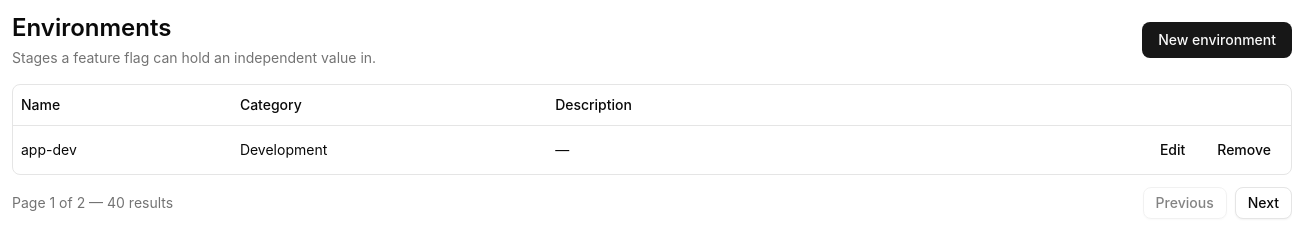
Scenario: EnvironmentsPage › changes page when Next/Previous are clicked
The image size is (1304, 236).
Expected: the text "Page 1 of 2 — 40 results" is shown, [12,192,173,212]
Click the button "Next". click: (1263, 202)
box: [1235,186,1292,218]
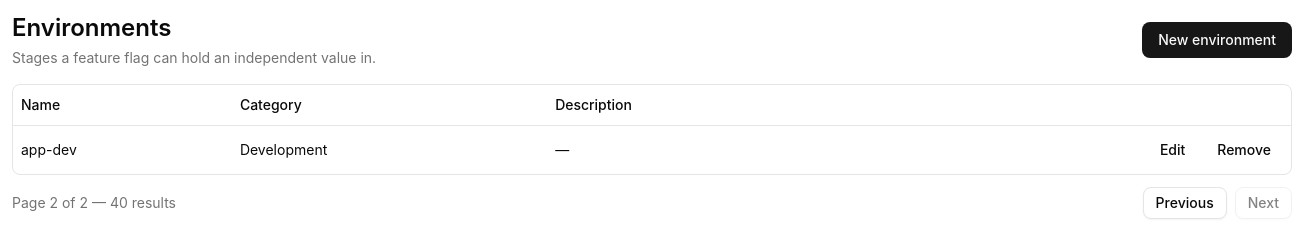
Expected: the text "Page 2 of 2 — 40 results" is shown, [12,192,176,212]
Click the button "Previous". click: (1185, 202)
box: [1143,186,1227,218]
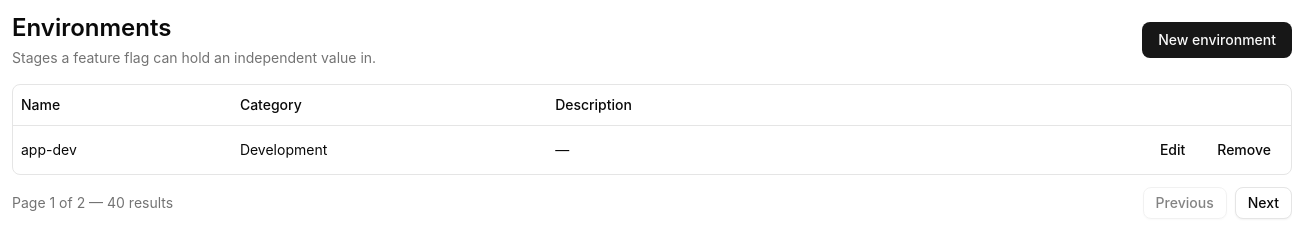
Expected: the text "Page 1 of 2 — 40 results" is shown, [12,192,173,212]
